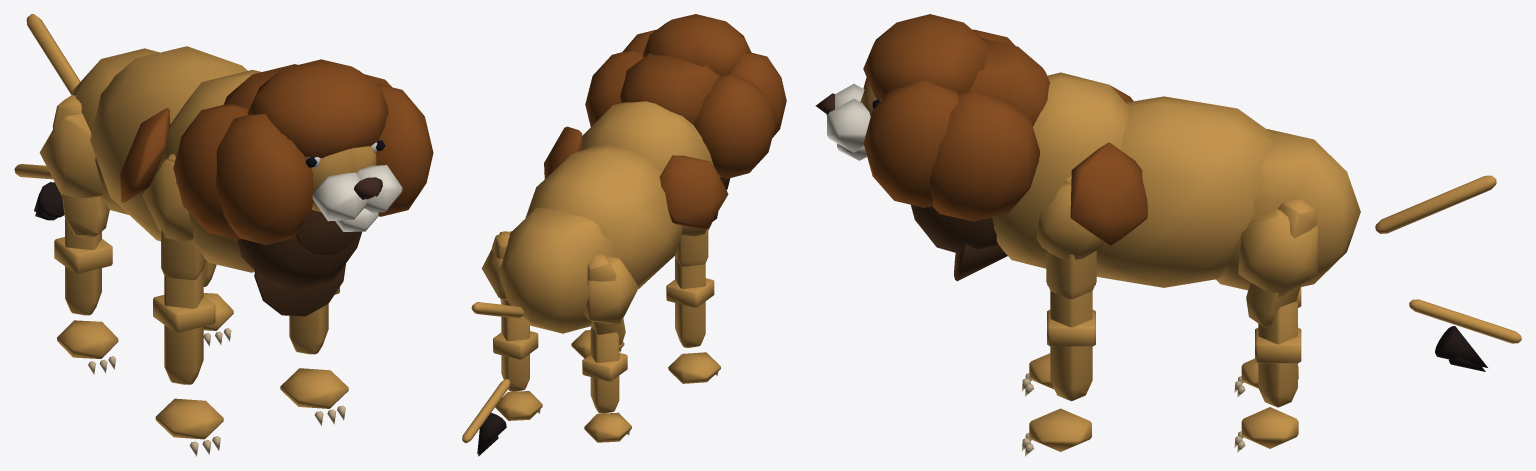
Rendered from lion.glb.
The picture shows the model from 3 angles, left to right: view 1: azimuth 30°, elevation 25°; view 2: azimuth 150°, elevation 25°; view 3: azimuth 270°, elevation 25°; orthographic projection. The views are drawn at different scales.
Parts seen in each view (by area): view 1: lion; view 2: lion; view 3: lion.
Part boxes in pixels (x1=…): lion: x1=14, y1=14, x2=433, y2=456; lion: x1=462, y1=14, x2=786, y2=456; lion: x1=815, y1=14, x2=1521, y2=456.
Size of the model in its own units: 0.936 by 1.62 by 2.6.
